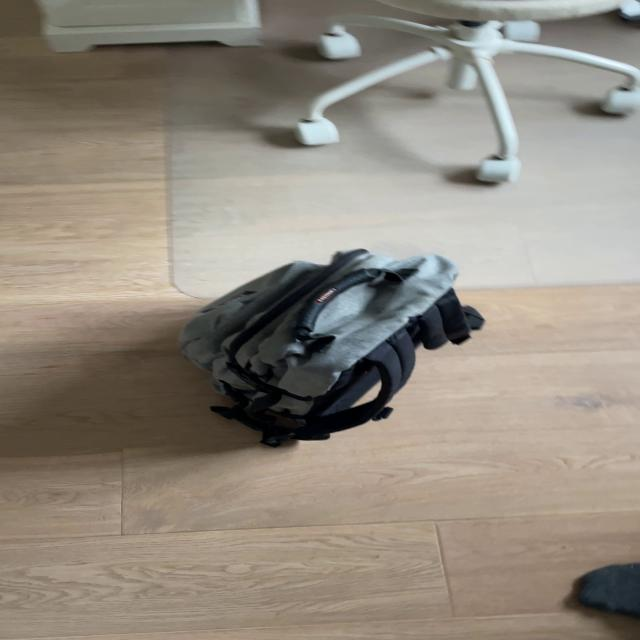backpack: (171, 238, 488, 456)
